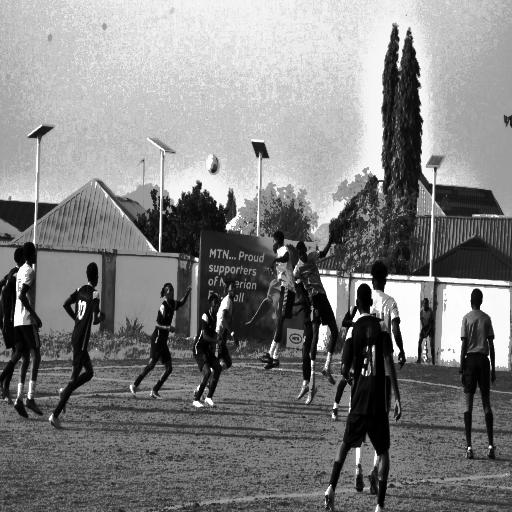ball: (206, 152, 219, 177)
referee: (454, 286, 500, 469), (417, 289, 439, 368)
team1: (323, 281, 400, 512), (43, 253, 103, 439), (129, 270, 186, 398), (186, 293, 229, 419), (0, 232, 23, 404)
team2: (297, 229, 341, 384), (360, 253, 402, 375), (14, 238, 42, 420), (261, 226, 292, 378)
